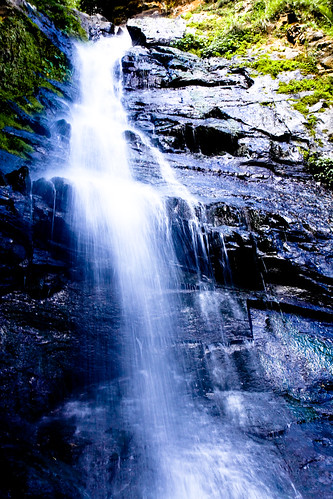wufengciWaterfall: (28, 5, 292, 496)
